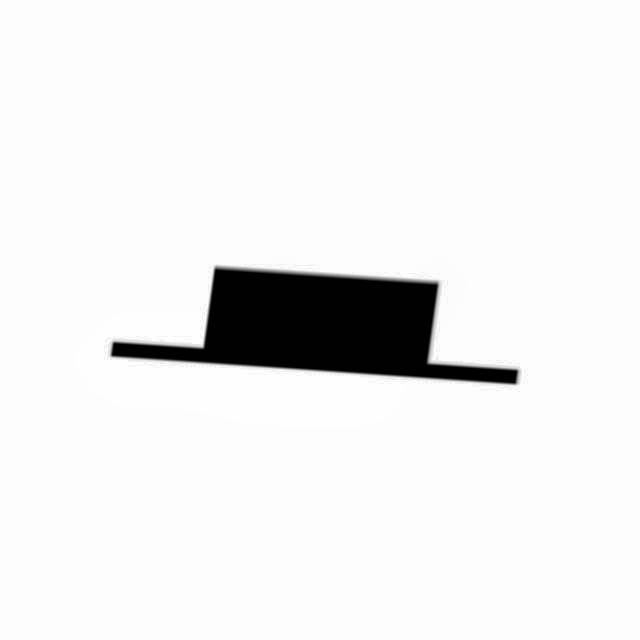Half-rest: (60, 252, 542, 404)
